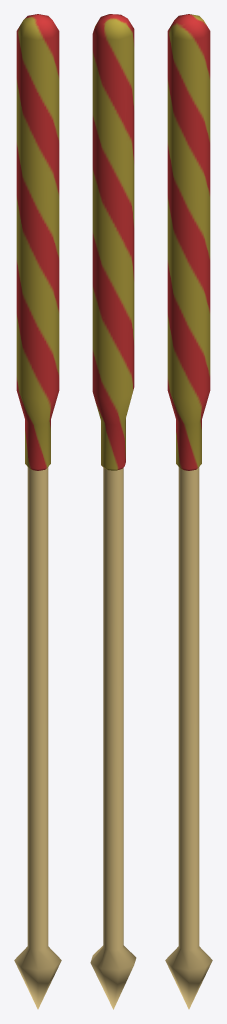
The model's file is pi_lunchpick06.gltf.
3 views of the same model, side by side, from view 1: azimuth 90°, elevation 25°; view 2: azimuth 150°, elevation 25°; view 3: azimuth 270°, elevation 25° (orthographic).
Parts seen in each view (by area): view 1: pi_lunchpick06_mesh_shape:pi_lunchpick06_body; view 2: pi_lunchpick06_mesh_shape:pi_lunchpick06_body; view 3: pi_lunchpick06_mesh_shape:pi_lunchpick06_body.
Part boxes in pixels (x1,y1,x2,y2): pi_lunchpick06_mesh_shape:pi_lunchpick06_body: (14, 14, 61, 1009); pi_lunchpick06_mesh_shape:pi_lunchpick06_body: (90, 14, 136, 1009); pi_lunchpick06_mesh_shape:pi_lunchpick06_body: (165, 14, 212, 1009).
Bounding box in the file's own units: 0.00793 × 0.1827 × 0.00793.
Materials: 1 (1 with a texture image).
